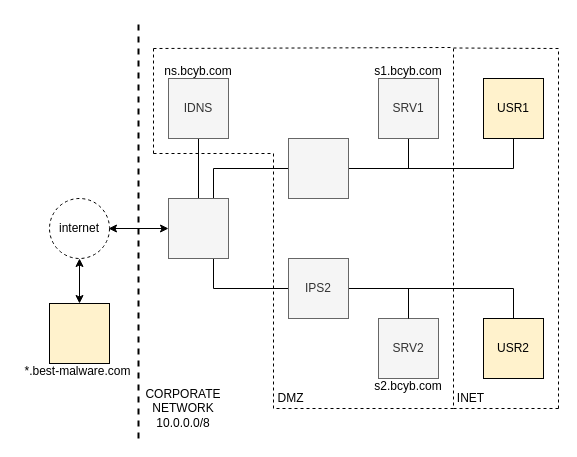
Image size: 577x457. Some labels were removed from this diagram. The box of each missing label's shape, as (x1, y1, x2, y2) in pixels:
IPS1: (288, 138, 348, 198)
MDNS: (48, 302, 110, 364)
ROS: (168, 198, 228, 258)
